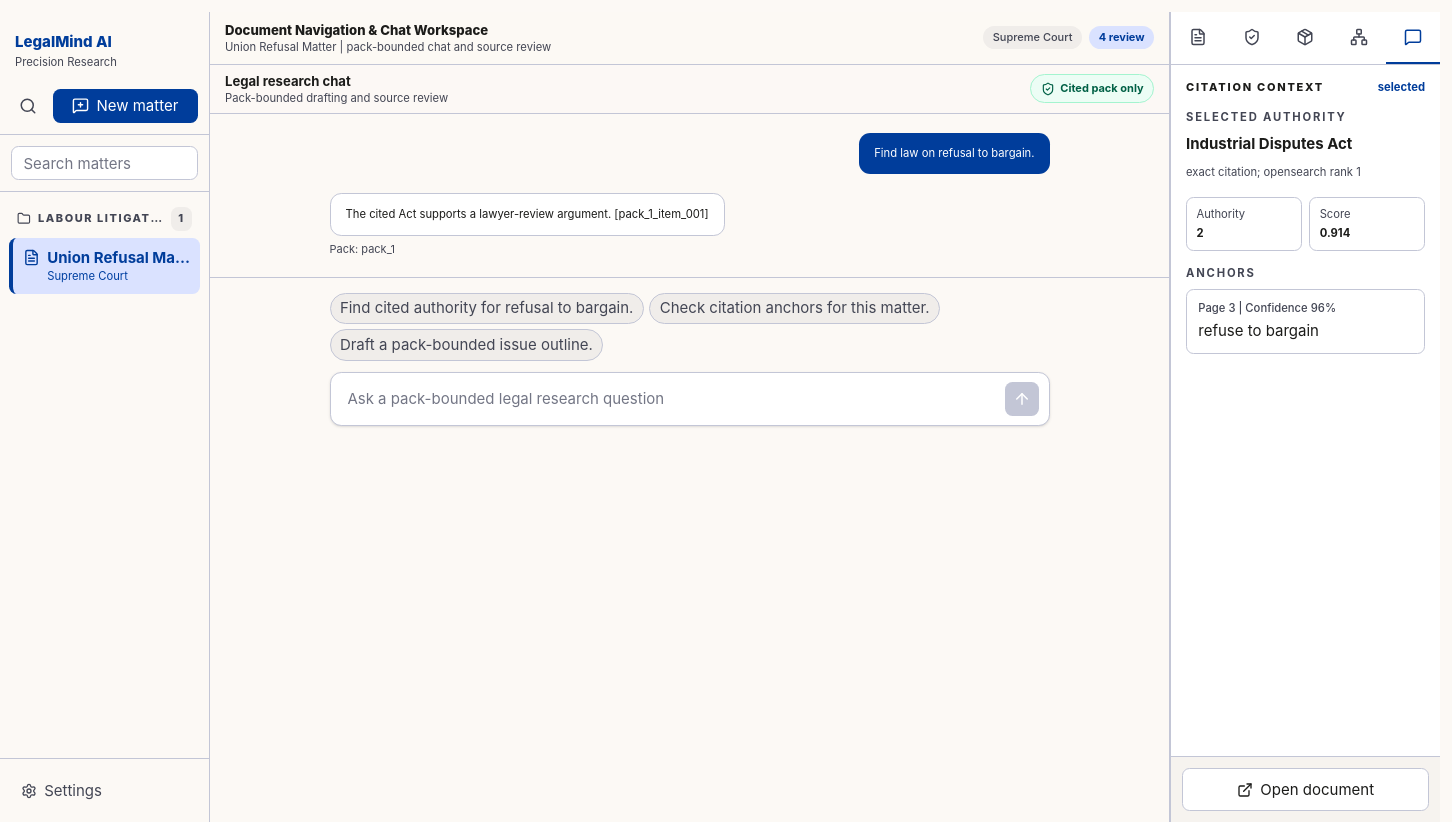
CaseWorkspace › persists chat messages through the provided action
The width and height of the screenshot is (1452, 822).
Step 1. Type "Check the latest cited source." into the text box named "Message" → (669, 399), box [340,382,998,416]
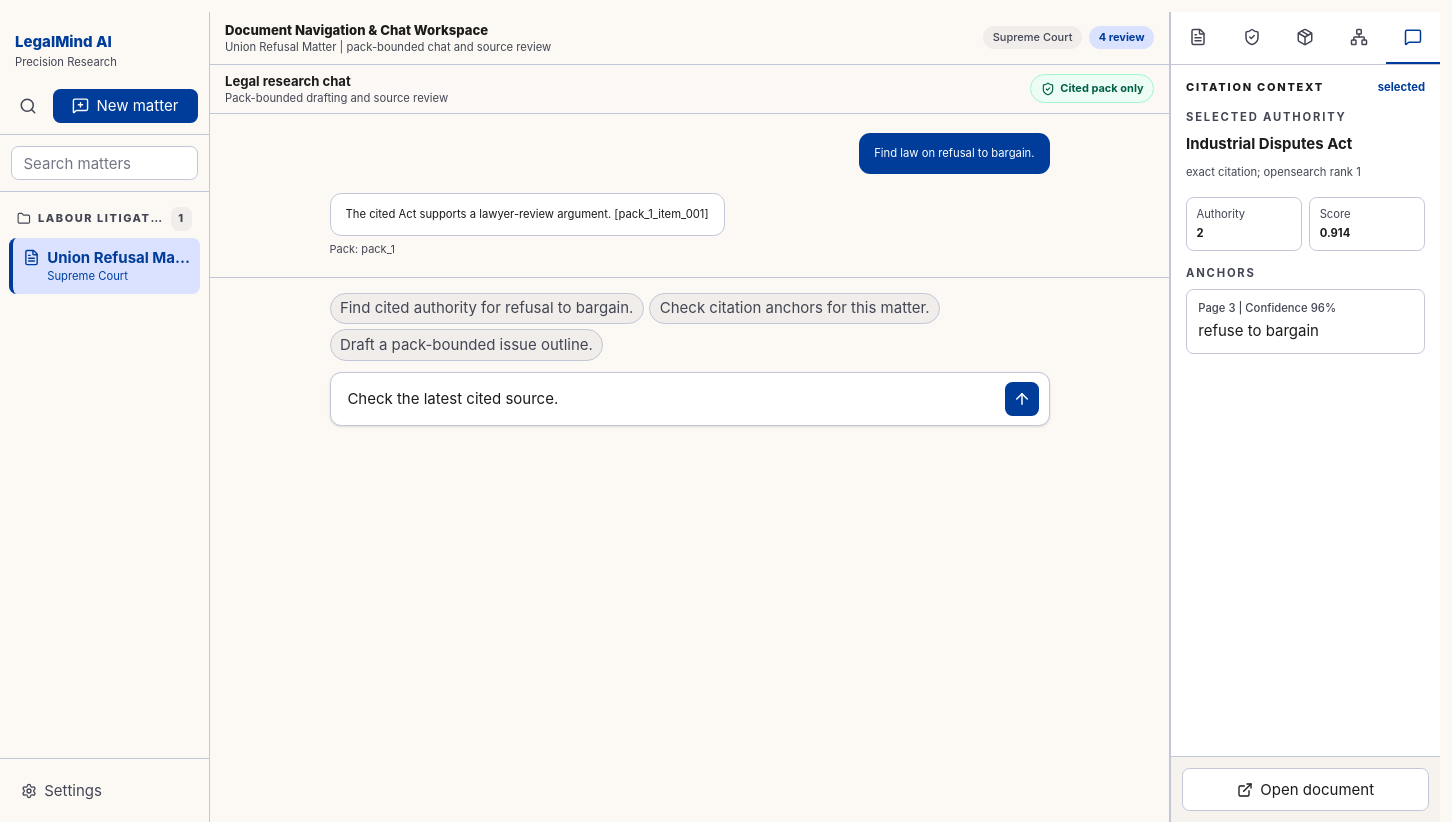
Step 2. Click the button named "Send message" → (1022, 399), box [1005,382,1039,416]
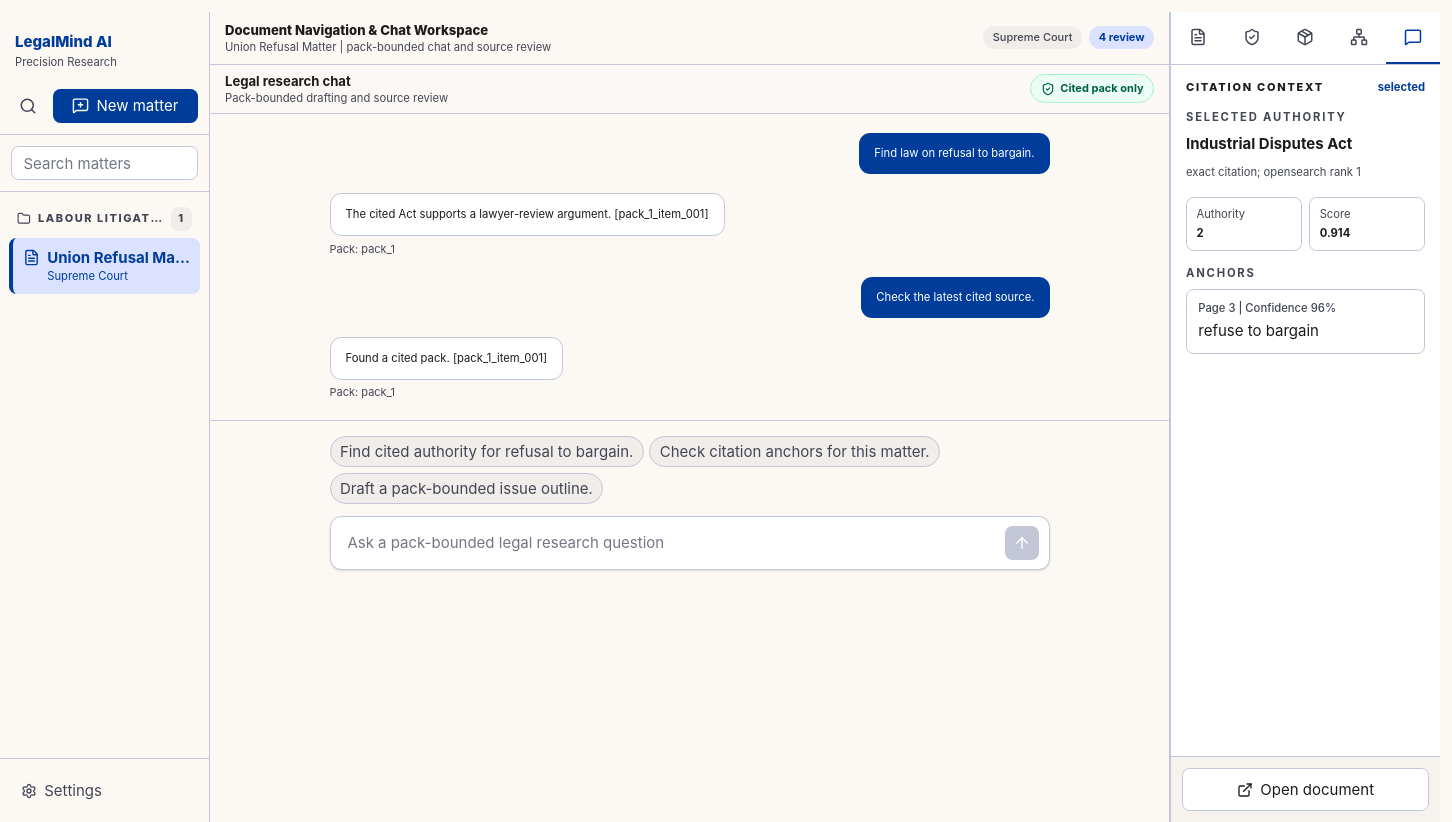
Now the text "Check the latest cited source." is shown, box [861,277,1050,318]
Now the text "Found a cited pack. [pack_1_item_001]" is shown, box [330,337,563,380]
